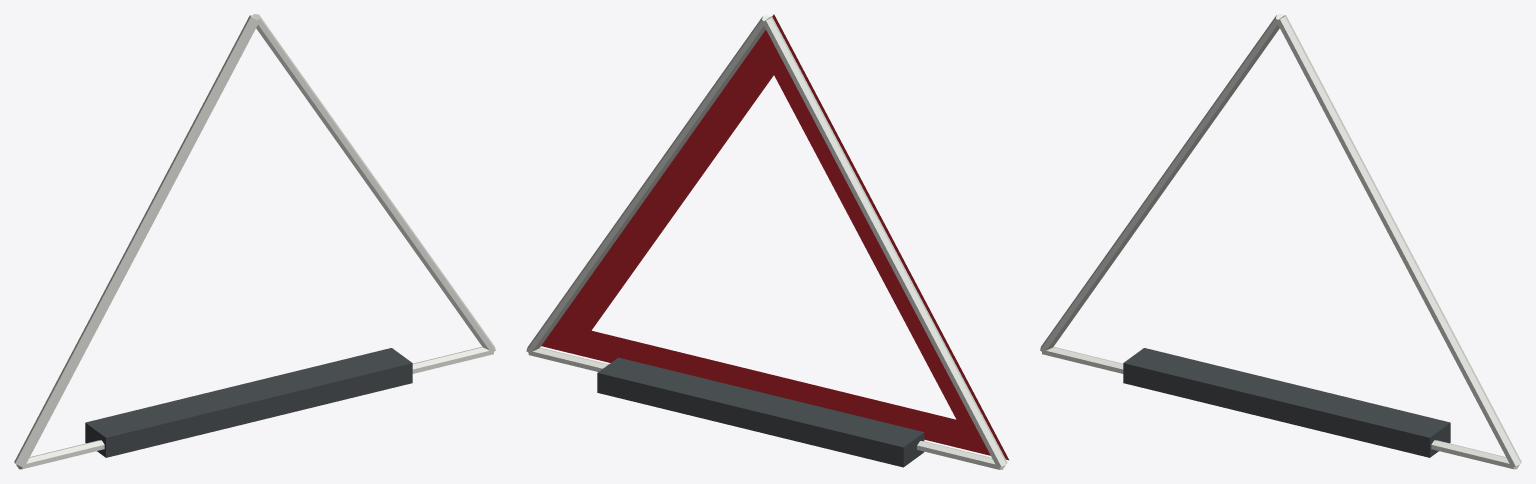
Rendered from ob_cabin_triangle_near.glb.
3 renders of one model, left to right at view 1: azimuth 30°, elevation 25°; view 2: azimuth 150°, elevation 25°; view 3: azimuth 330°, elevation 25°, orthographic.
Parts seen in each view (by area): view 1: ob_cabin_triangle_near; view 2: ob_cabin_triangle_near; view 3: ob_cabin_triangle_near.
Part boxes in pixels (bbox=[...]): ob_cabin_triangle_near: bbox=[14, 14, 495, 469]; ob_cabin_triangle_near: bbox=[526, 14, 1008, 469]; ob_cabin_triangle_near: bbox=[1040, 14, 1521, 469].
Size of the model in its own units: 0.4 by 0.32 by 0.034.
